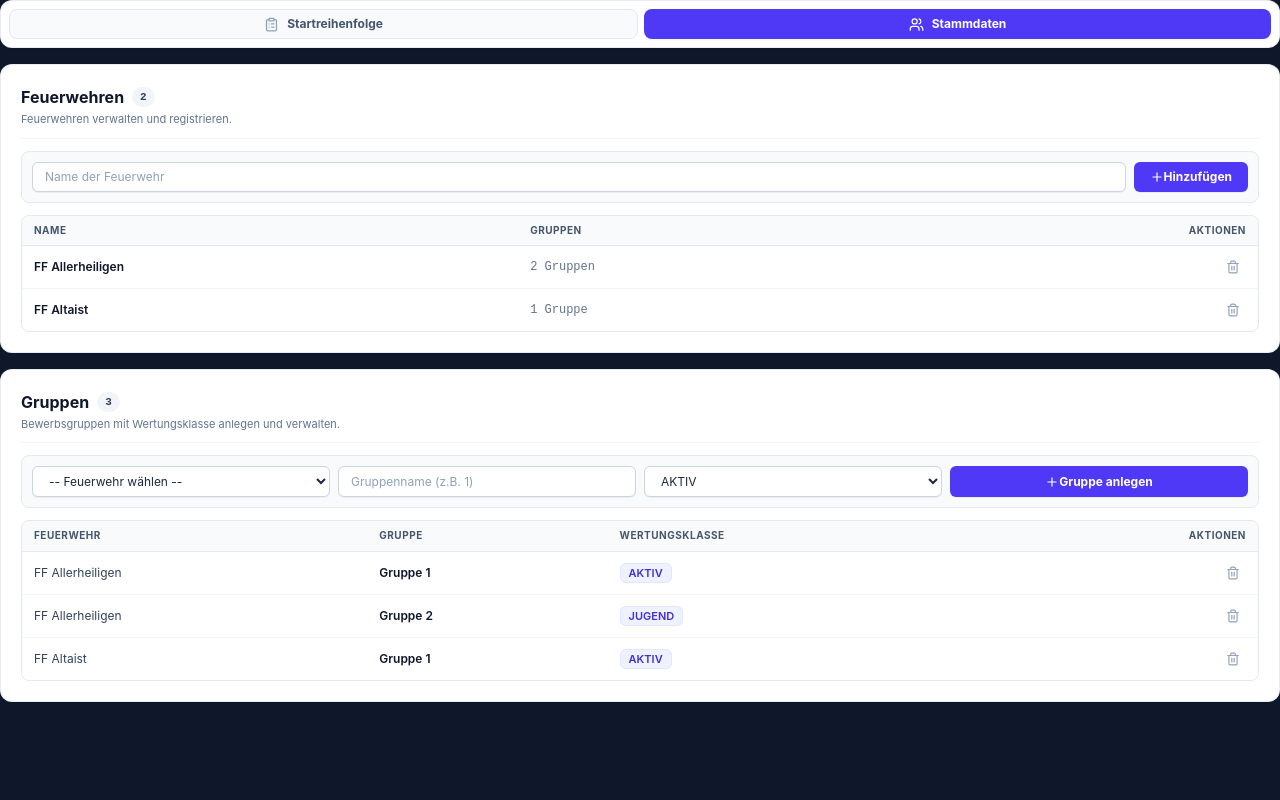
Test: ParticipantsTab Component › shows an actionable German error for a duplicate Group/Wertungsklasse combination
Expected: the text "Gruppe 2" is shown, x1=367 y1=594 x2=608 y2=637
Step 1. Select "FF Allerheiligen" in the dropdown named "Feuerwehr auswählen" → (181, 482), box x1=32 y1=466 x2=330 y2=497
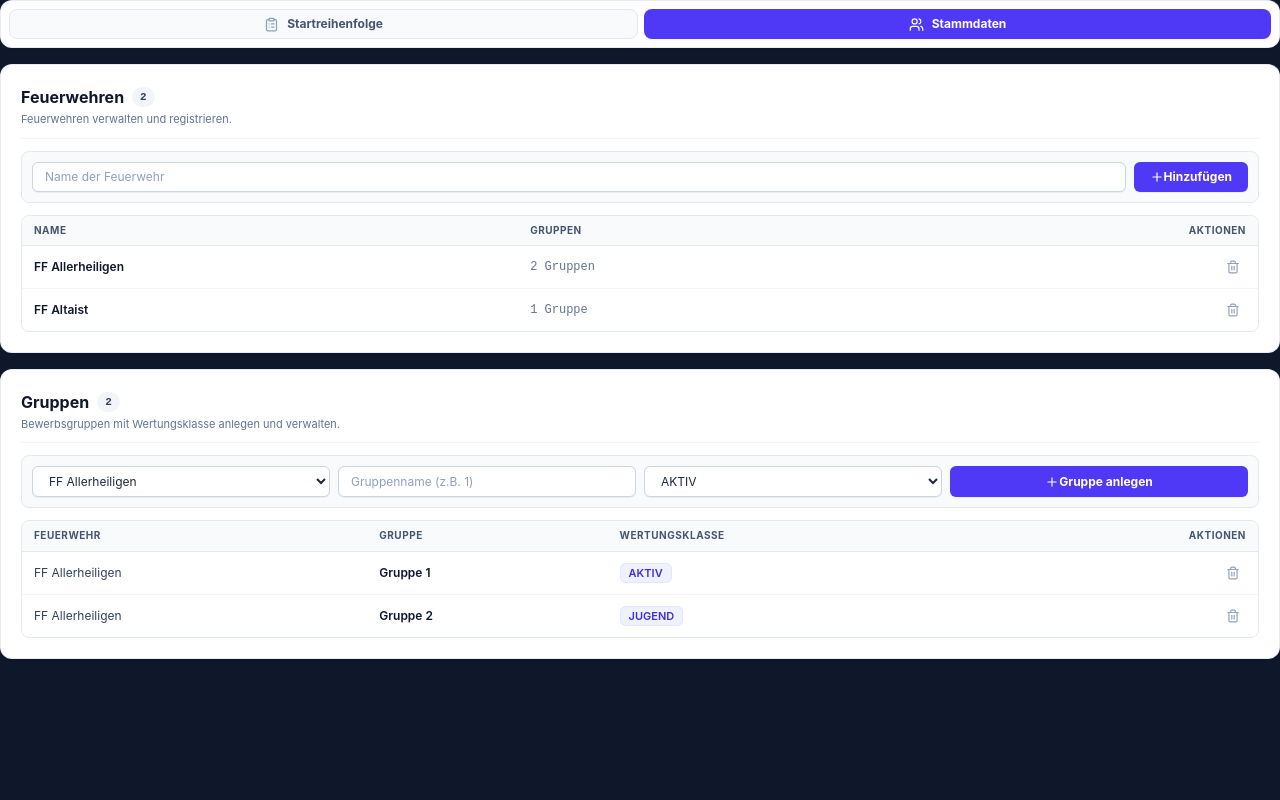
Step 2. Type "Gruppe 1" into the field with placeholder "Gruppenname (z.B. 1)" → (487, 482), box x1=338 y1=466 x2=636 y2=497
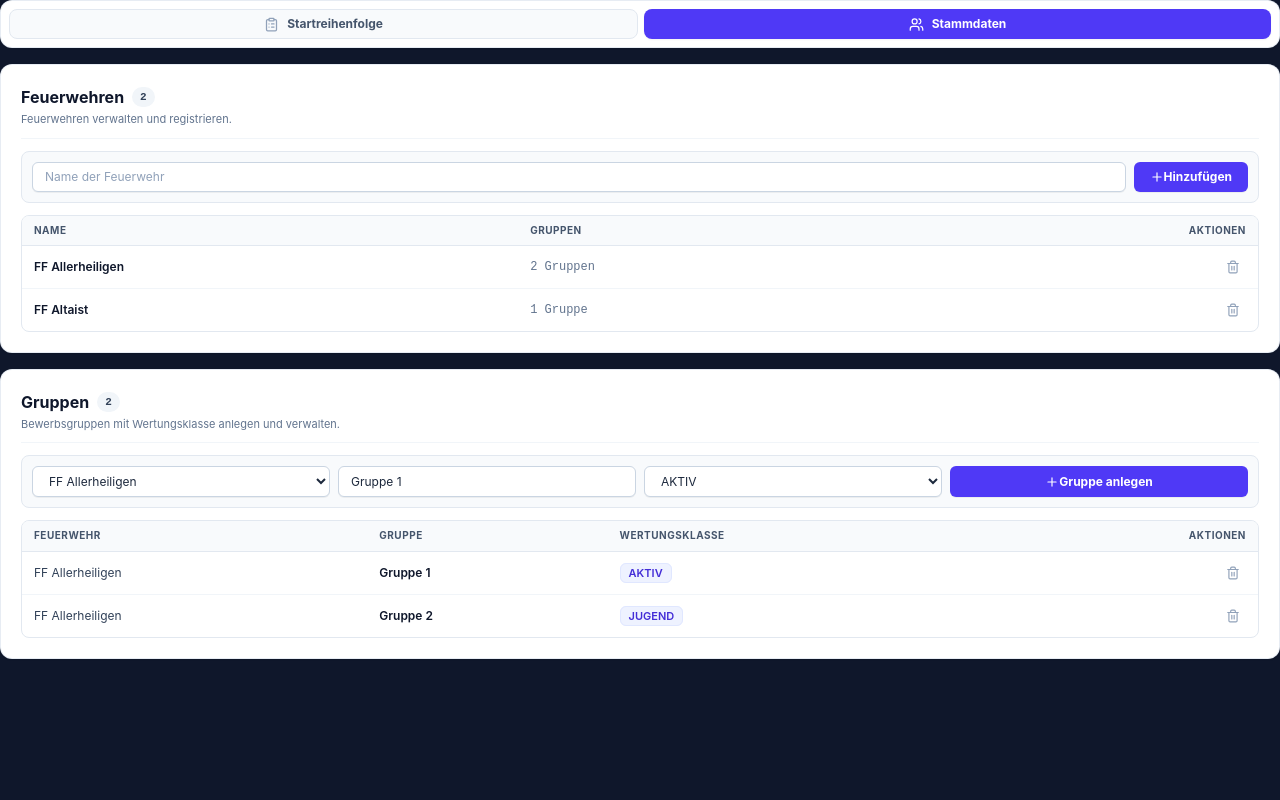
Step 3. Select "AKTIV" in the dropdown named "Wertungsklasse auswählen" → (793, 482), box x1=644 y1=466 x2=942 y2=497
Step 4. Click the button "Gruppe anlegen" → (1099, 482), box x1=950 y1=466 x2=1248 y2=497
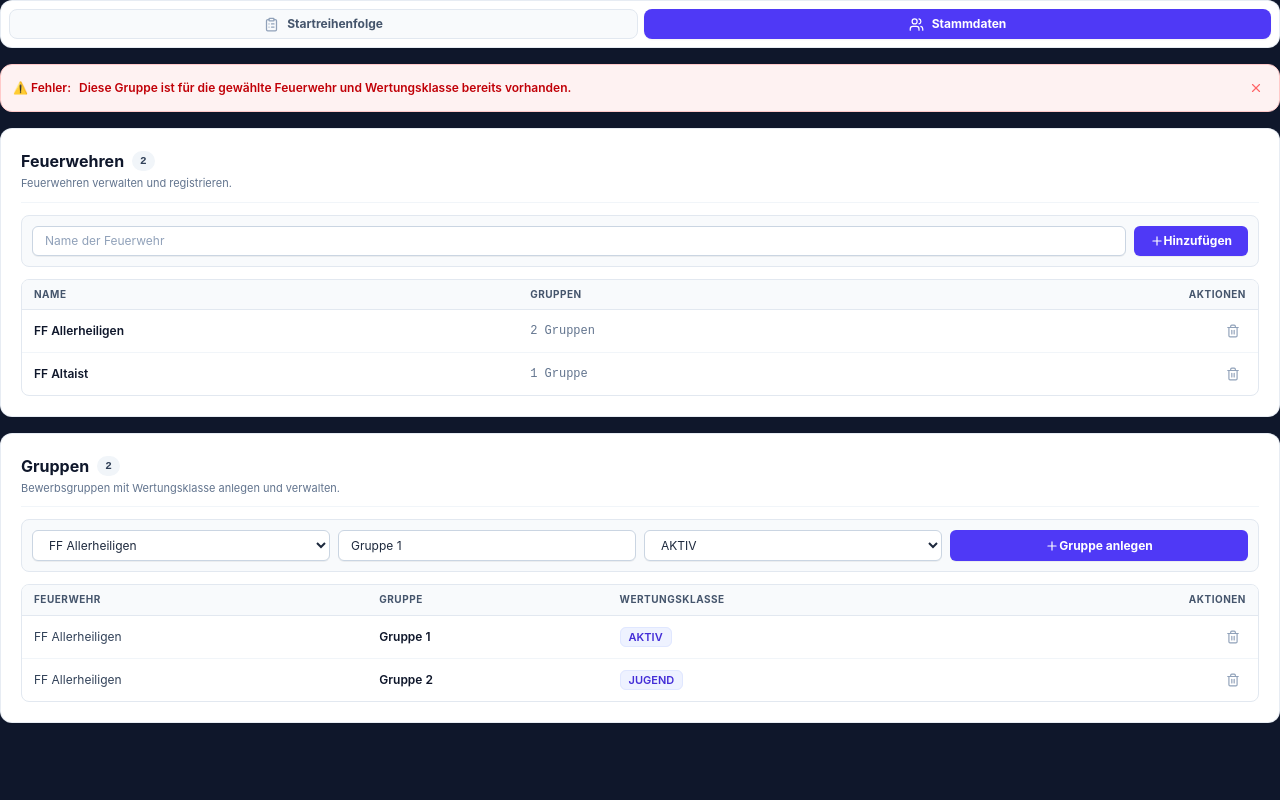
Expected: the text "Diese Gruppe ist für die gewählte Feuerwehr und Wertungsklasse bereits vorhanden." is shown, x1=79 y1=80 x2=571 y2=95
